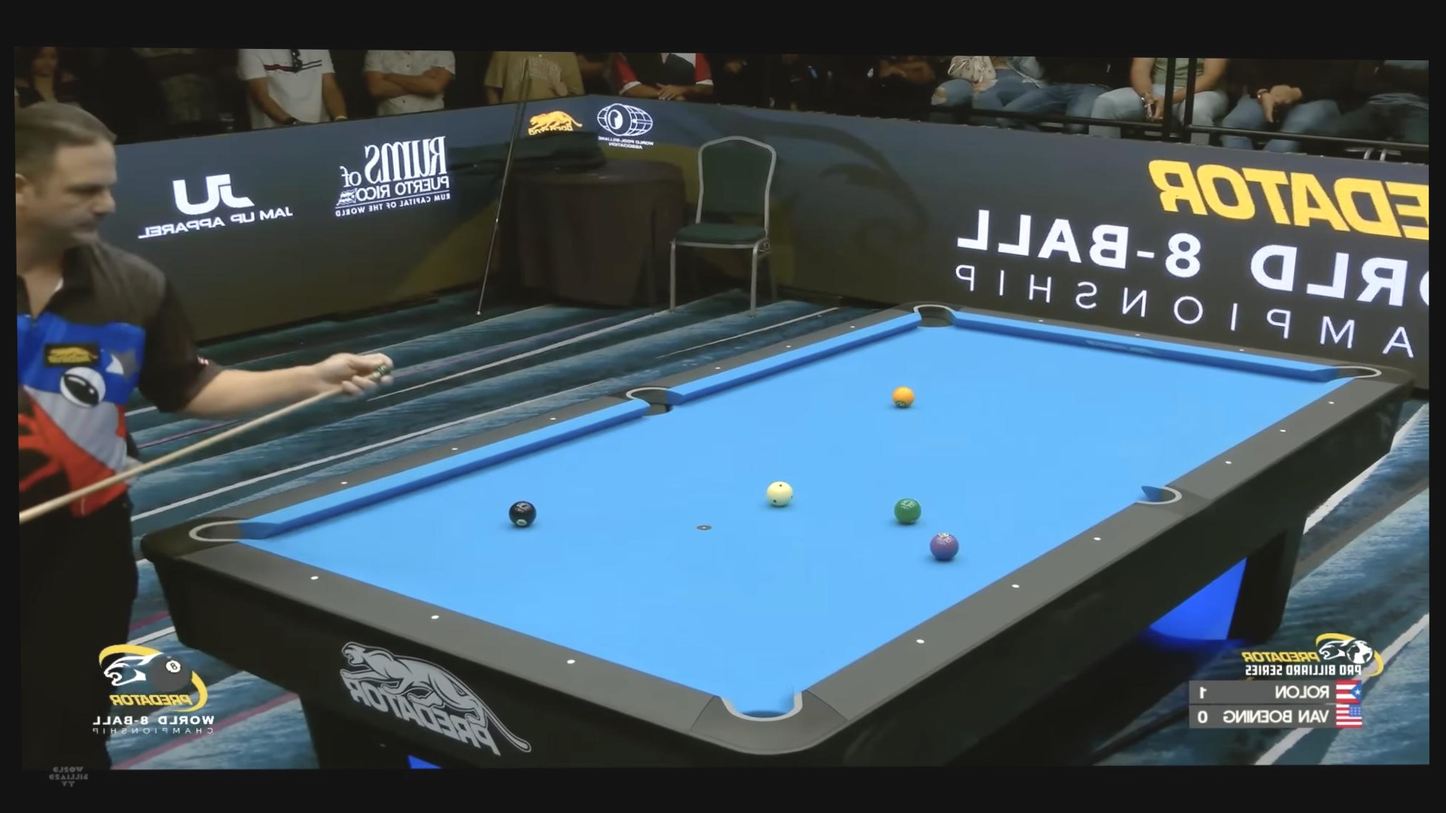Black: (508, 500, 537, 527)
Cue: (766, 481, 794, 507)
Solid: (428, 611, 442, 623), (307, 571, 321, 583), (565, 656, 578, 668), (915, 637, 927, 647), (1010, 582, 1022, 592), (1092, 534, 1104, 544), (1327, 398, 1336, 407), (1223, 459, 1232, 467), (1279, 427, 1288, 435), (340, 480, 347, 486), (1238, 347, 1245, 353), (1037, 318, 1044, 324), (550, 416, 556, 422), (1135, 332, 1141, 338), (850, 324, 856, 330), (786, 344, 792, 349), (715, 366, 721, 371), (452, 447, 458, 451)
Striped: (929, 532, 959, 559), (893, 498, 922, 524), (892, 386, 915, 408)
